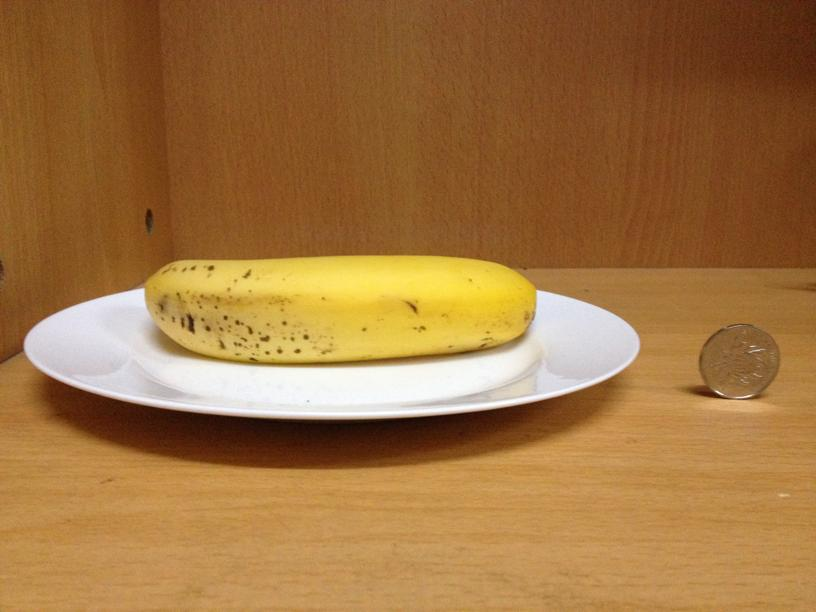banana: (140, 255, 537, 361)
coin: (696, 321, 779, 399)
